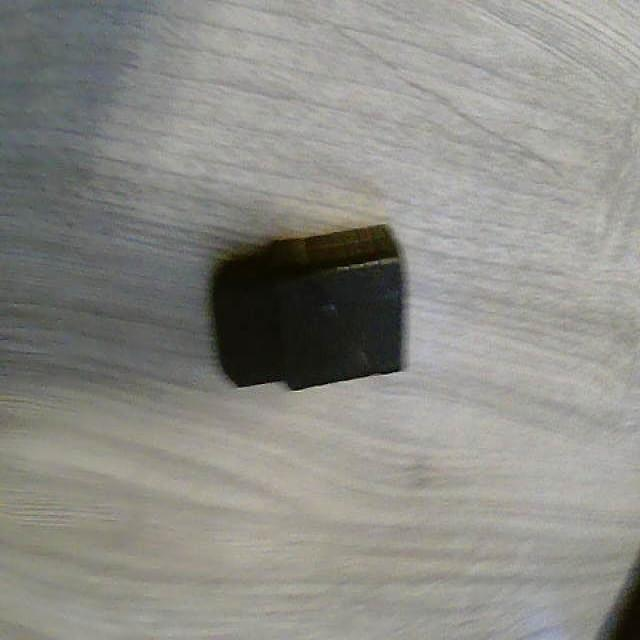borracha: (207, 186, 440, 430)
